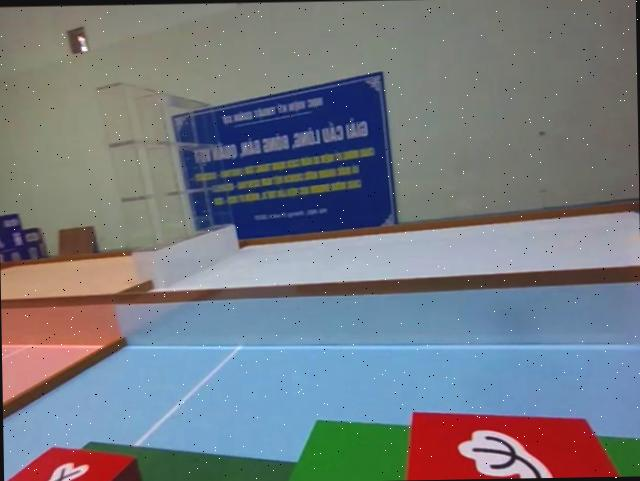R2 Real: (403, 403, 629, 480), (3, 442, 149, 481)
